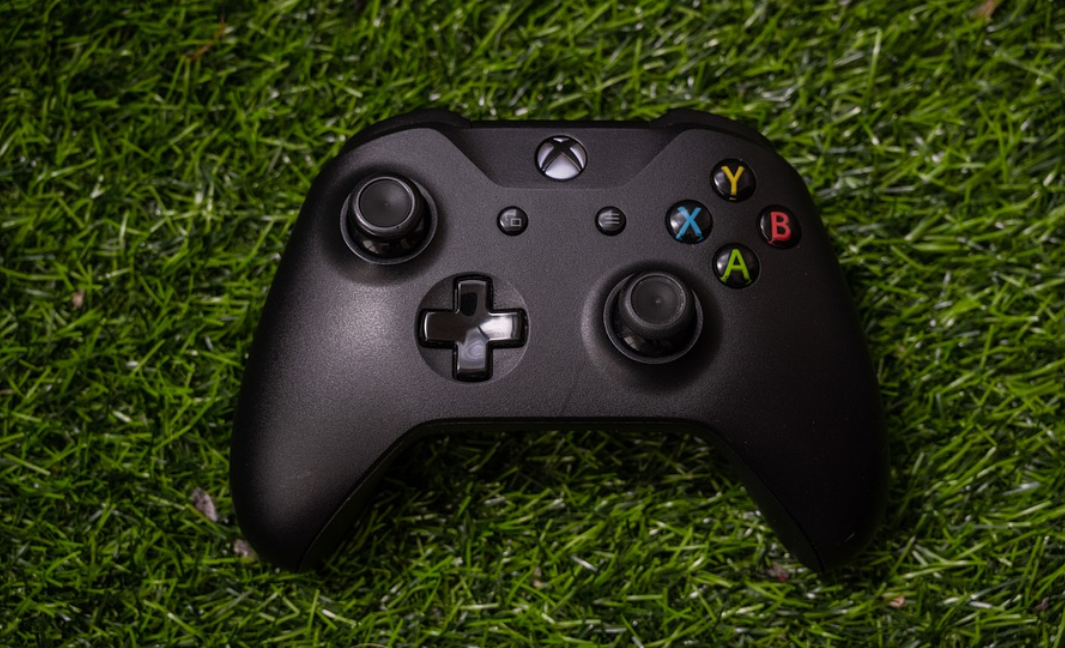gamingconsole: (235, 122, 884, 578)
